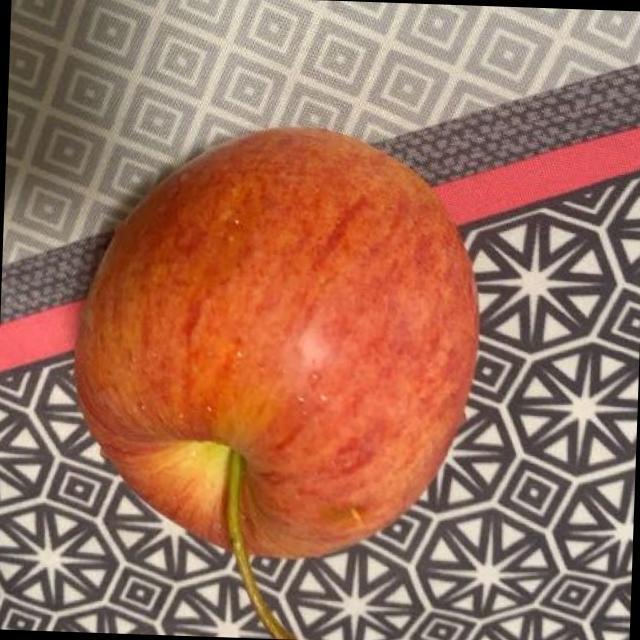Apple: (49, 104, 504, 640)
